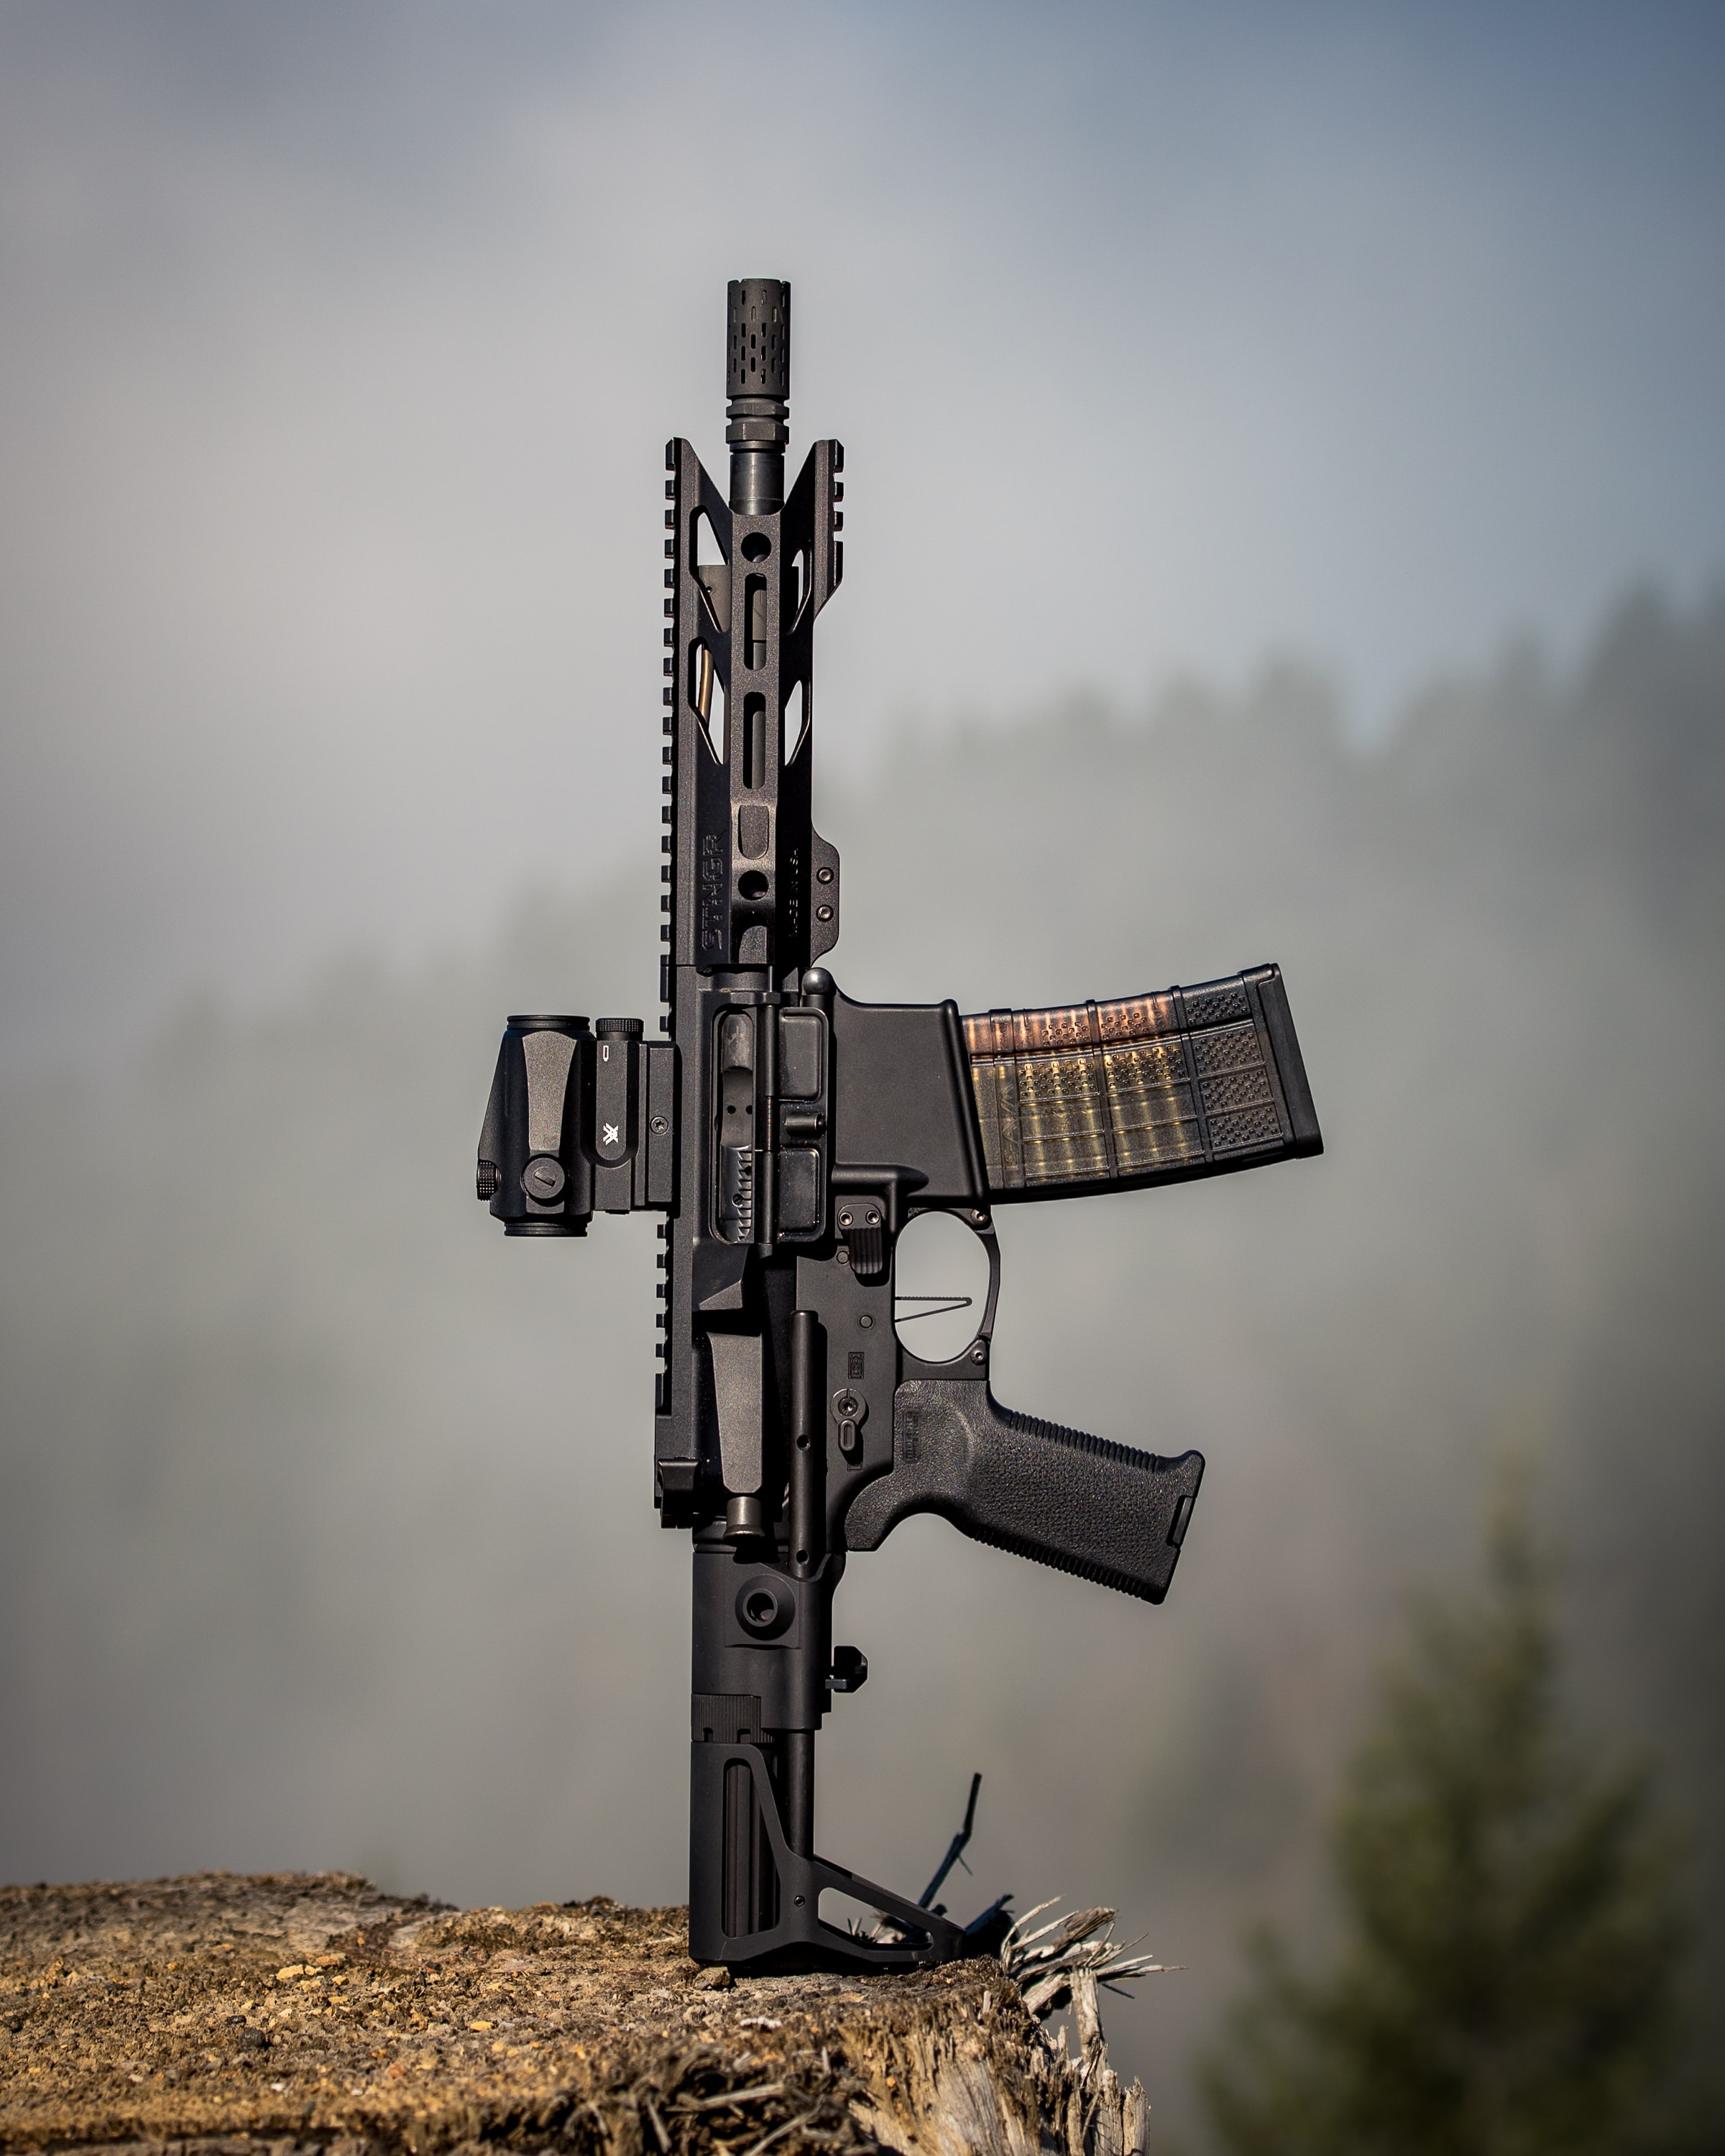Gun: (438, 218, 1403, 1969)
